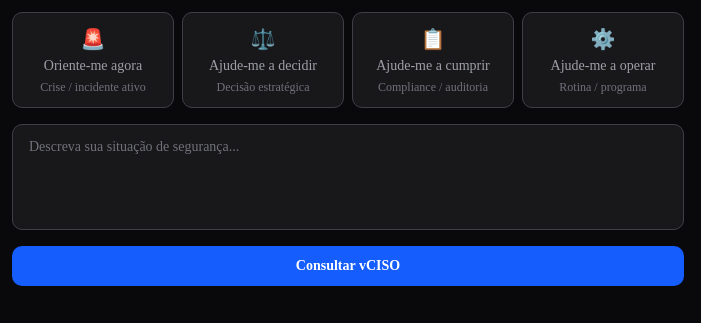
Test case: SituationInput › exibe erro inline para input com menos de 10 caracteres
In the text box labelled "Descreva sua situação de segurança...": (348, 176) [12,124,684,230], type "curto"
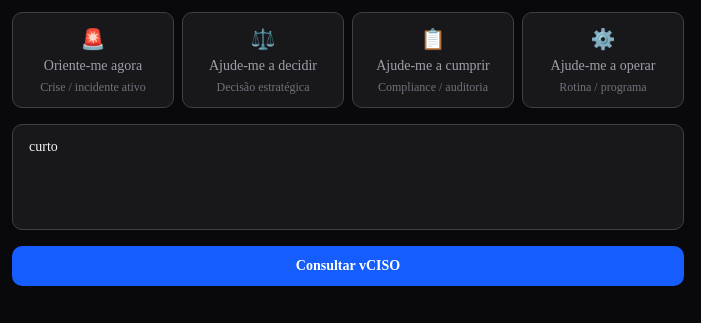
Submit the form named "situação"
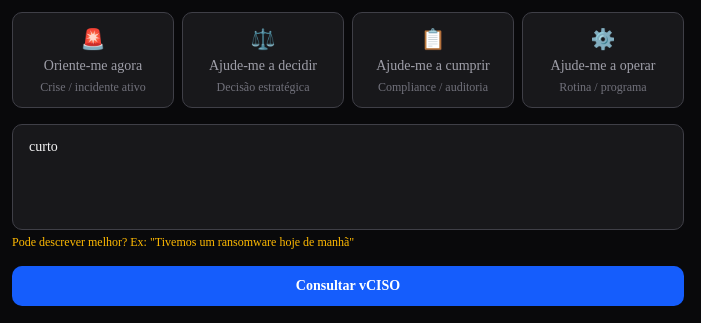
Check: the message shows "Pode descrever melhor", box [12,234,354,248]
